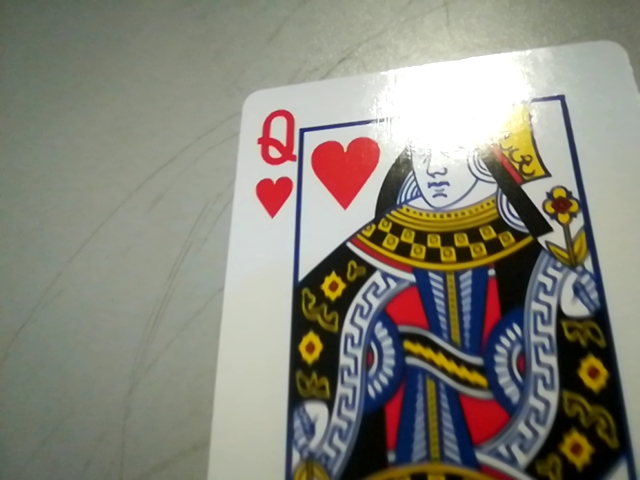hx q: (246, 105, 303, 217)
